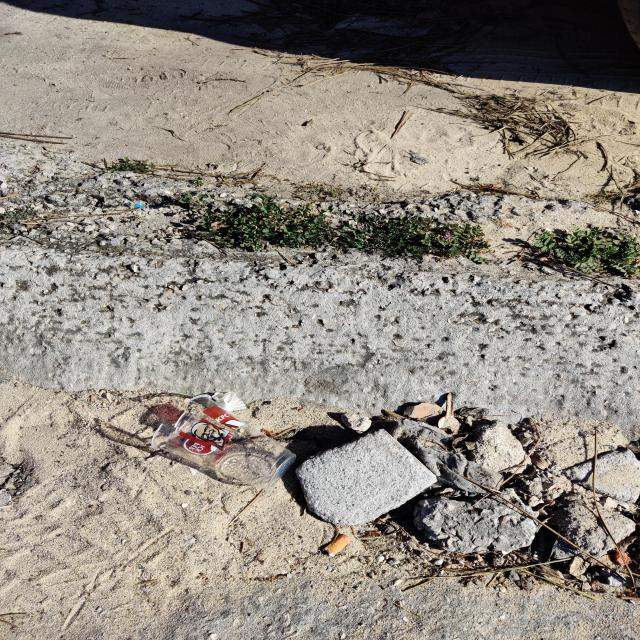litter: (154, 391, 295, 490), (323, 531, 353, 559)
